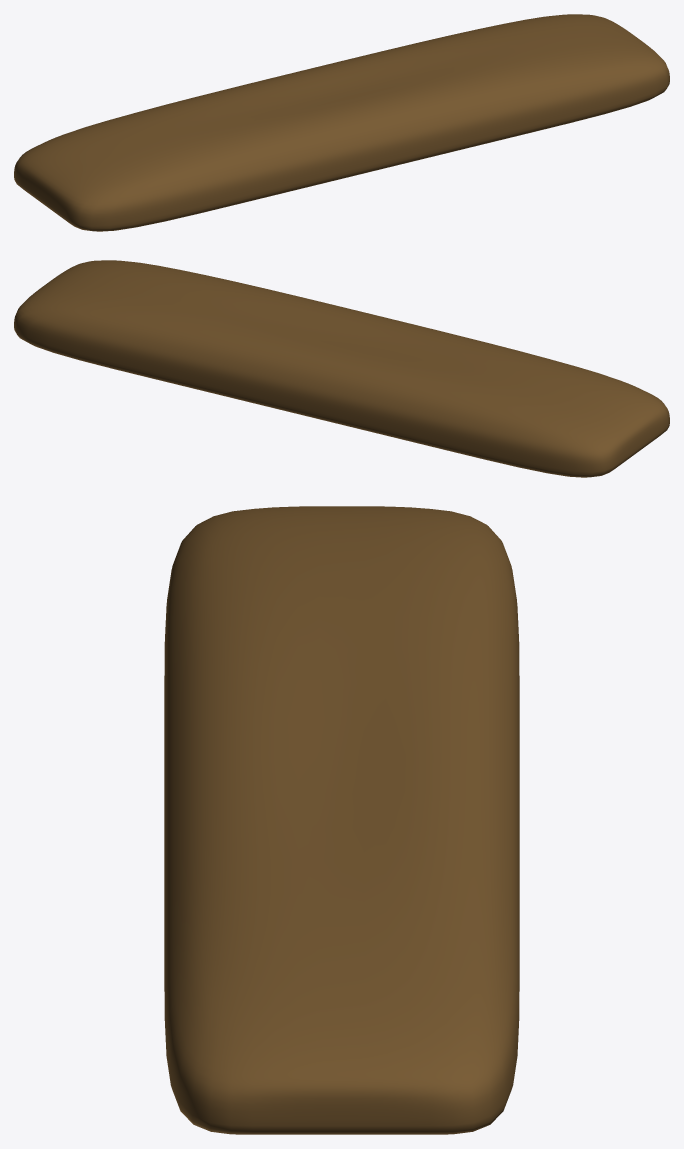
Rendered from DirtPile_Long.fbx.
3 views of the same model, one above another, from view 1: azimuth 30°, elevation 25°; view 2: azimuth 150°, elevation 25°; view 3: azimuth 270°, elevation 25° (orthographic). The views are drawn at different scales.
Visible parts, largest first — view 1: DirtPile.001; view 2: DirtPile.001; view 3: DirtPile.001.
Part boxes in pixels (x1=…): DirtPile.001: x1=14, y1=14, x2=669, y2=231; DirtPile.001: x1=14, y1=260, x2=669, y2=477; DirtPile.001: x1=164, y1=506, x2=519, y2=1134.
Bounding box in the file's own units: 100 × 388 × 32.33.
